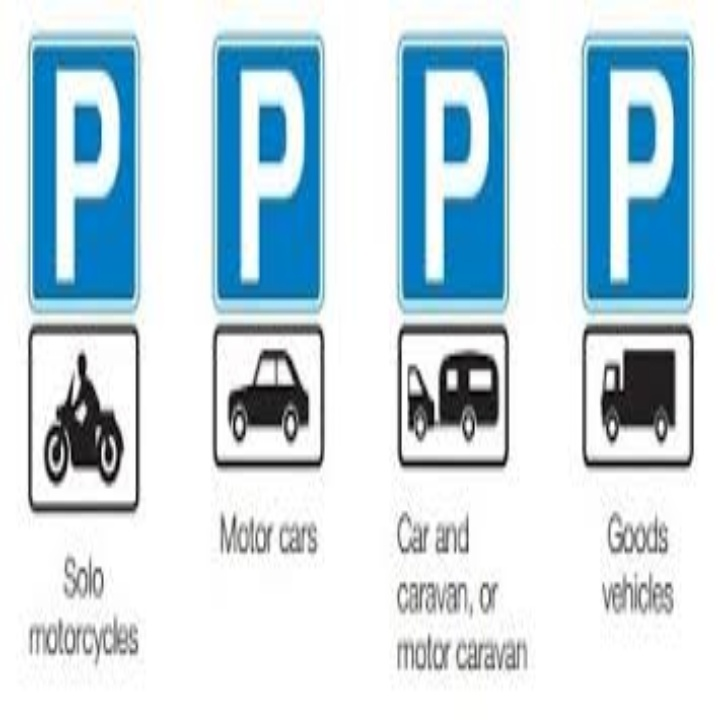parking: (228, 61, 309, 287), (48, 67, 126, 288), (604, 56, 677, 288), (420, 63, 494, 290)
